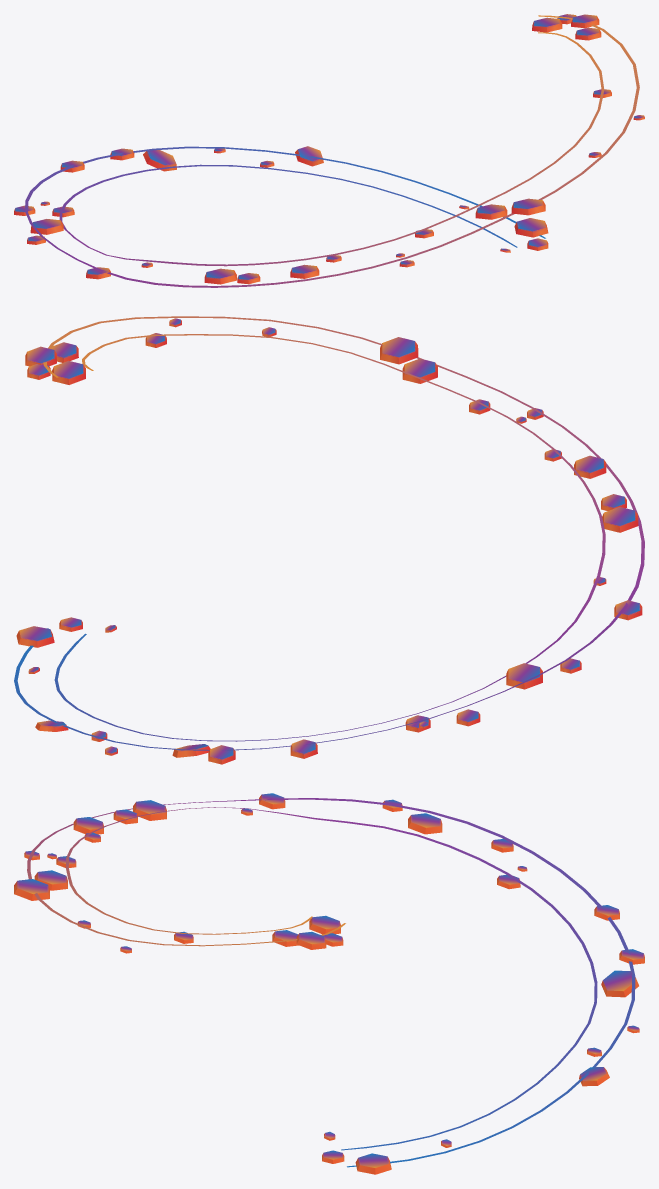
The model's file is star_walk.glb.
The picture shows the model from 3 angles, top to bottom: view 1: azimuth 30°, elevation 25°; view 2: azimuth 150°, elevation 25°; view 3: azimuth 270°, elevation 25°; orthographic projection. The views are drawn at different scales.
Parts seen in each view (by area): view 1: Star_walk; view 2: Star_walk; view 3: Star_walk.
Boxes of the visible parts, x1,y1,x2,y2 form: Star_walk: (14, 14, 644, 287); Star_walk: (14, 316, 644, 764); Star_walk: (14, 793, 644, 1174).
Size of what is drawn, in the model's own units: 54.05 by 22.05 by 51.97.
Materials: 1 (1 with a texture image).
